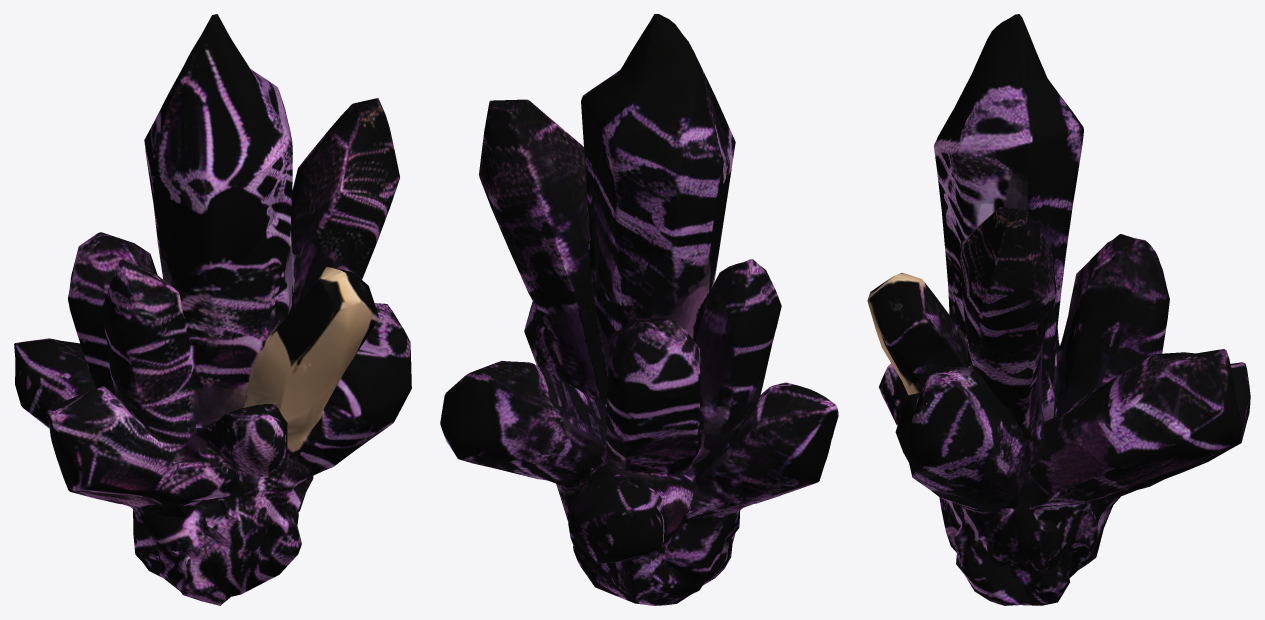
The model's file is magic-crystals-clean_parts_web.glb.
3 renders of one model, left to right at view 1: azimuth 30°, elevation 25°; view 2: azimuth 150°, elevation 25°; view 3: azimuth 270°, elevation 25°, orthographic.
Parts seen in each view (by area): view 1: part_00; view 2: part_00; view 3: part_00.
Boxes of the visible parts, x1,y1,x2,y2 form: part_00: (14,14,411,605); part_00: (440,14,838,605); part_00: (867,14,1250,605).
Size of the model in its own units: 1.22 by 1.97 by 1.18.
Materials: 6 (6 with a texture image).
